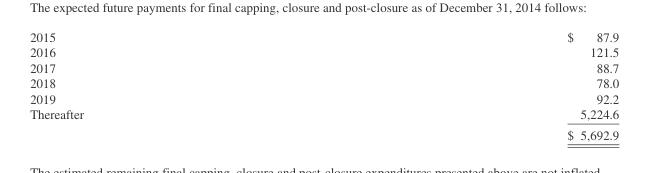table: (29, 29, 618, 141)
table column: (29, 29, 324, 141), (324, 29, 618, 141)
table row: (29, 106, 618, 124), (29, 124, 618, 141), (29, 59, 618, 75), (29, 90, 618, 106), (29, 29, 618, 44), (29, 44, 618, 59), (29, 75, 618, 90)
